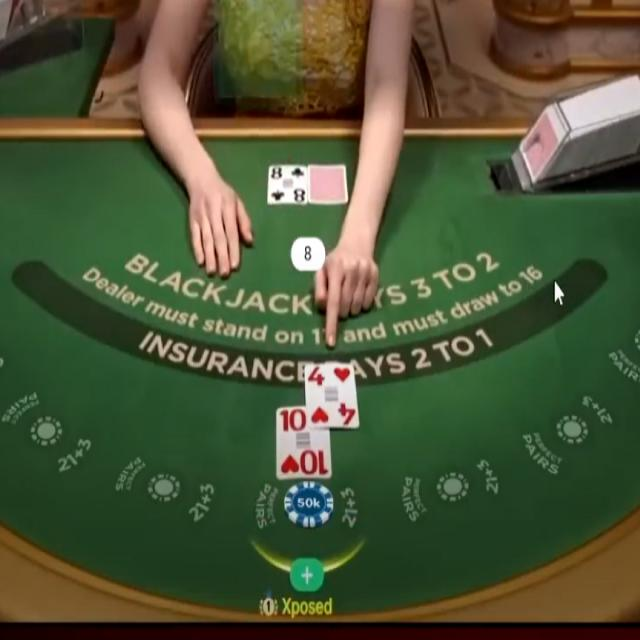Card-10: (277, 405, 331, 479)
Card-4: (306, 364, 358, 428)
Card-8: (267, 164, 307, 206)
